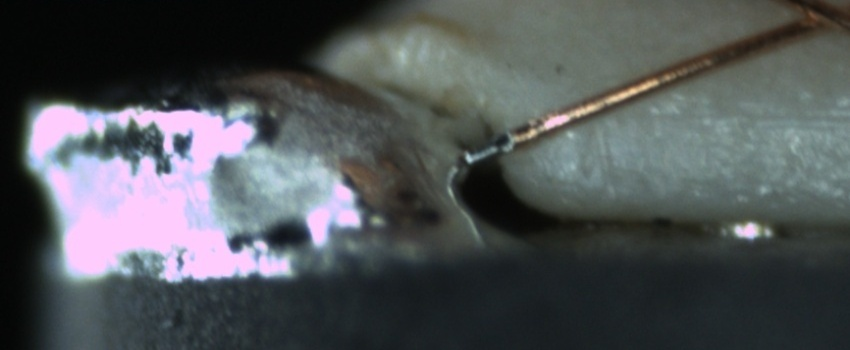CL: (769, 0, 847, 42)
DL: (632, 86, 848, 144)
TS: (460, 132, 512, 167)
TTCW: (468, 118, 546, 165)
